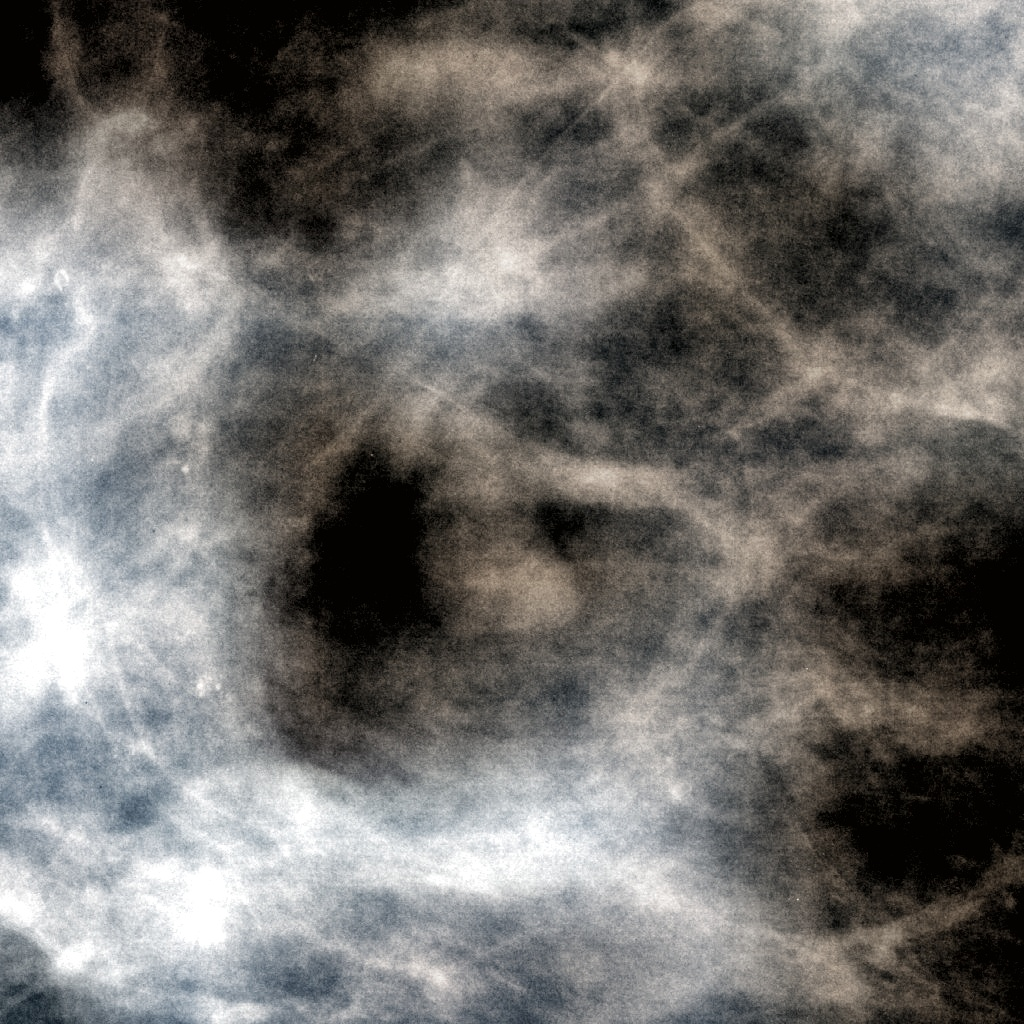tumor: (415, 406, 609, 618)
